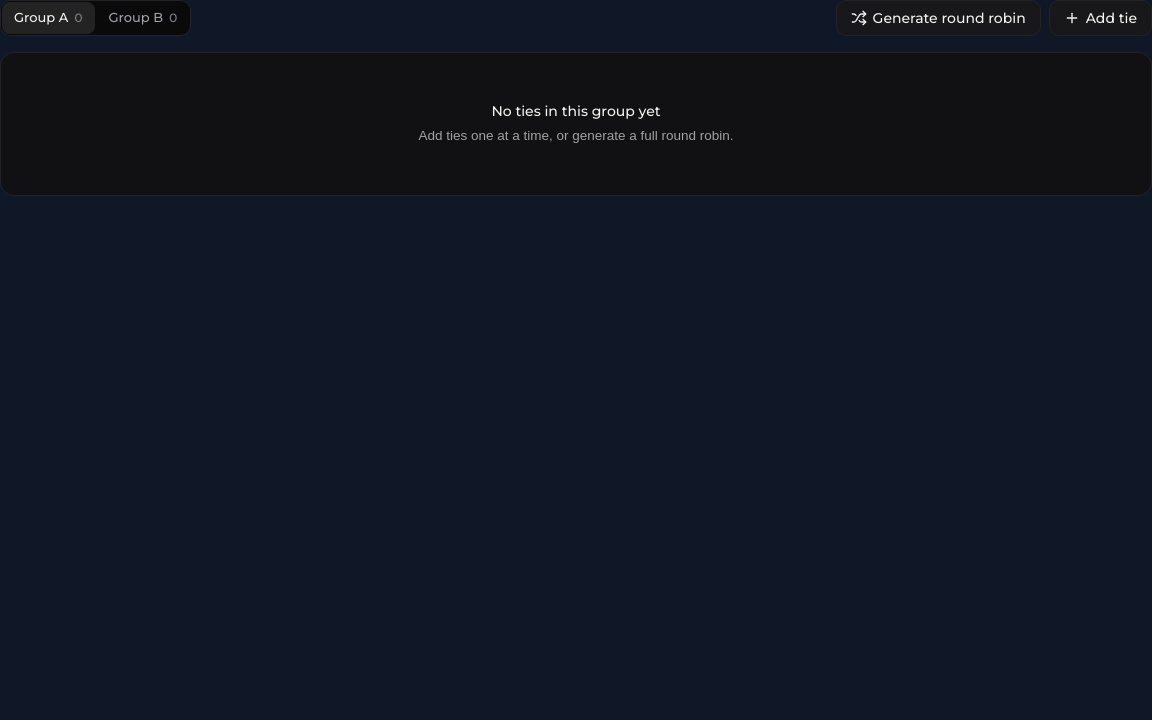
TieManagementPanel › keeps the selected group after creating a tie
Click the button "Group B 0".
click(143, 18)  # box [97,2,190,34]
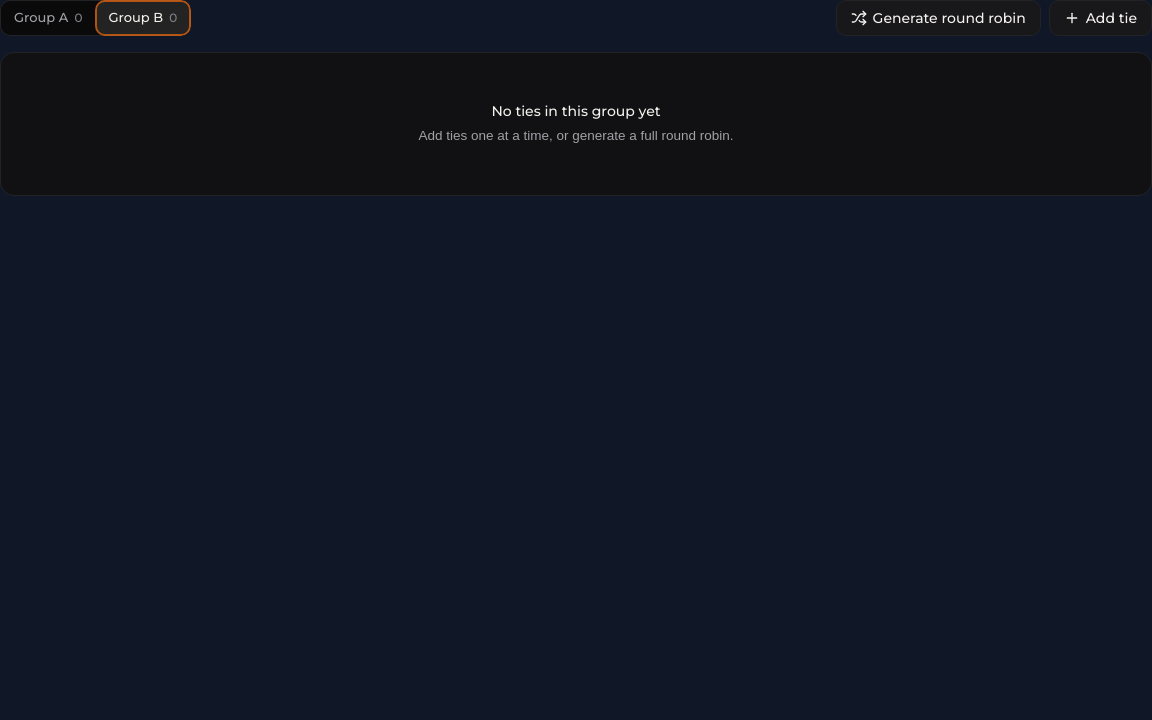
Check: the text "No ties in this group yet" is shown, box [491,102,661,120]
Click the button "Add tie".
click(1100, 18)  # box [1049,0,1151,36]
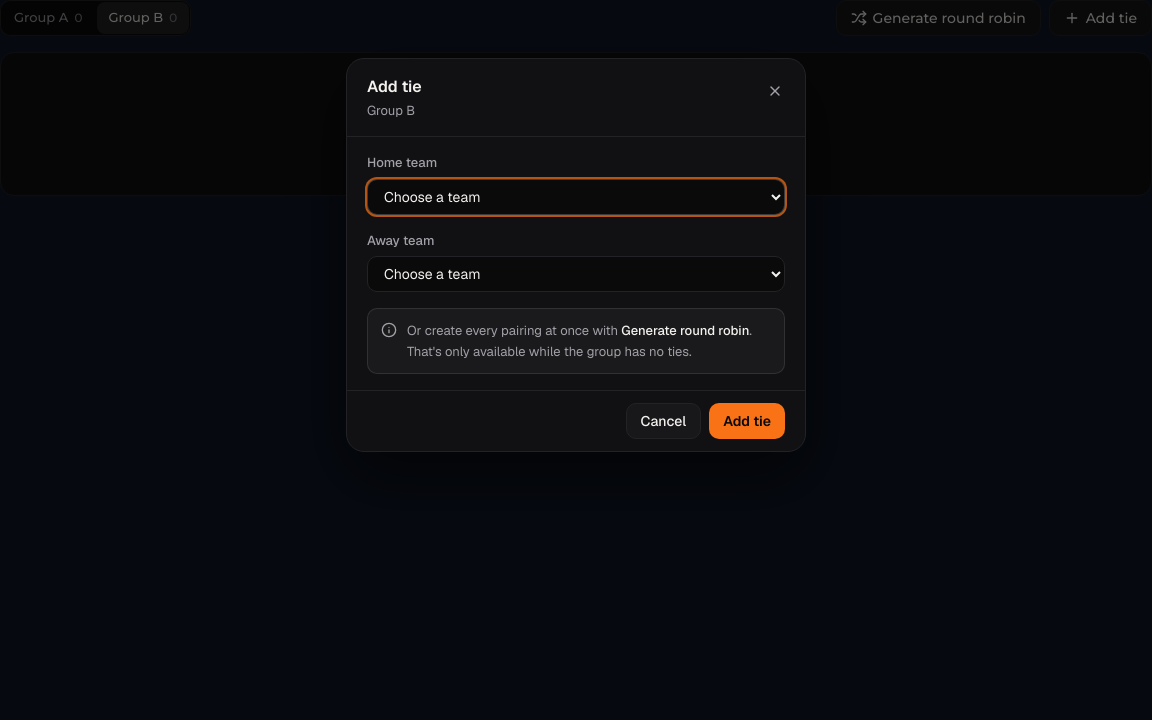
Click the button "Add tie".
click(747, 421)  # box [709,403,785,439]
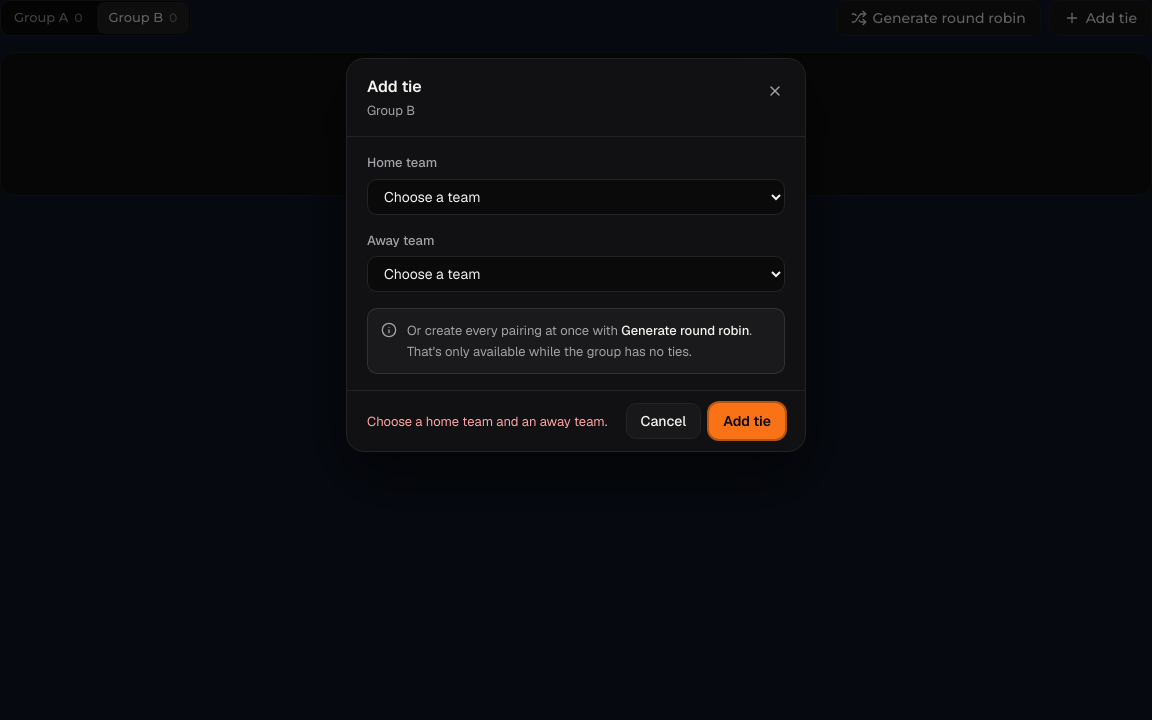
Check: the message reads "Choose a home team and an away team.", box [367,413,607,430]
Select "Baseline Blazers" in the dropdown labelled "Home team" at {"x": 576, "y": 197}, box [367,179,785,215]
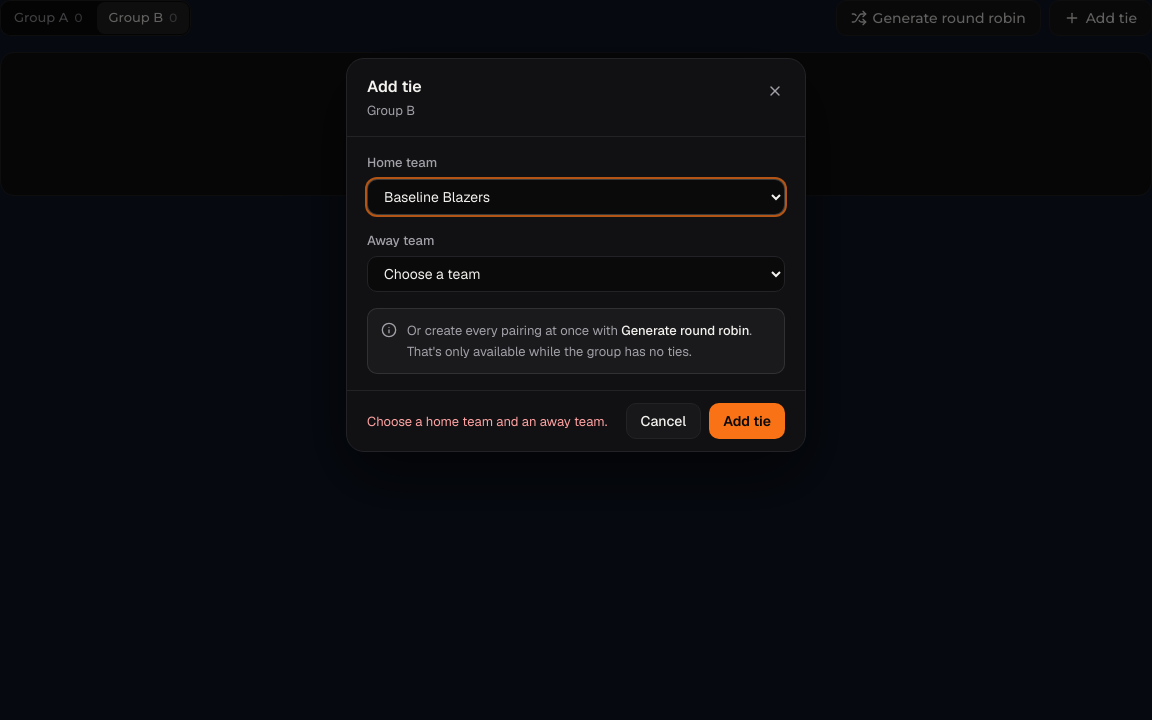
Select "Net Ninjas" in the dropdown labelled "Away team" at {"x": 576, "y": 274}, box [367,256,785,292]
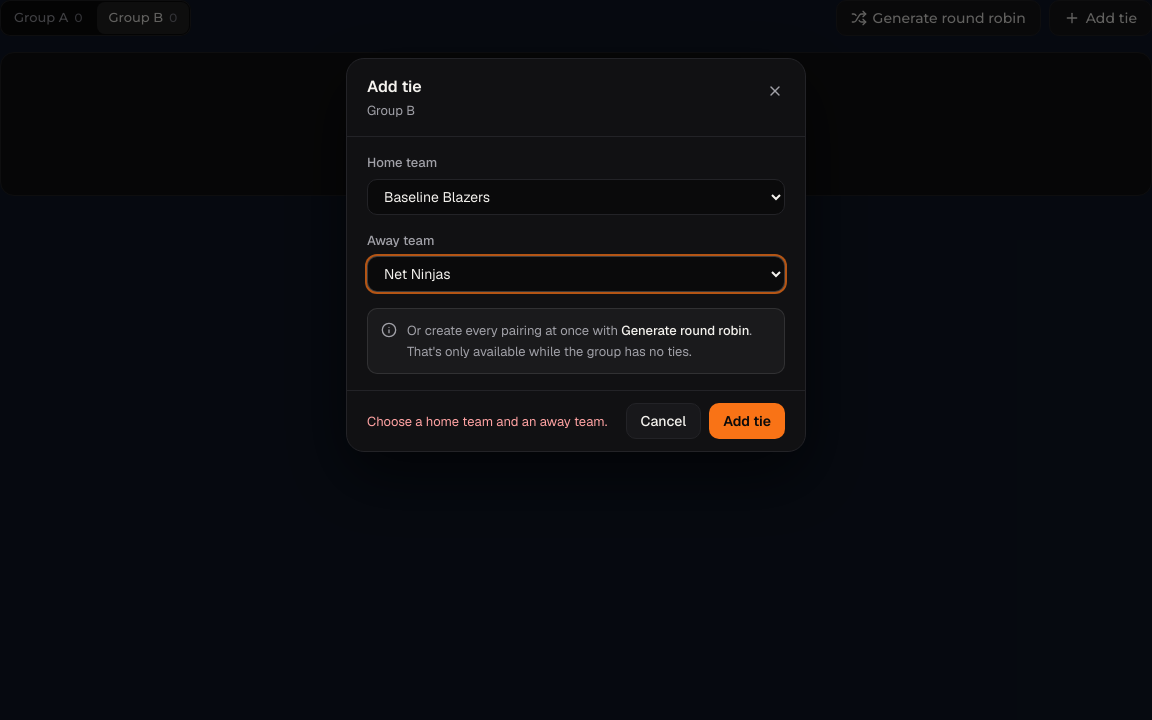
Click the button "Add tie".
click(747, 421)  # box [709,403,785,439]
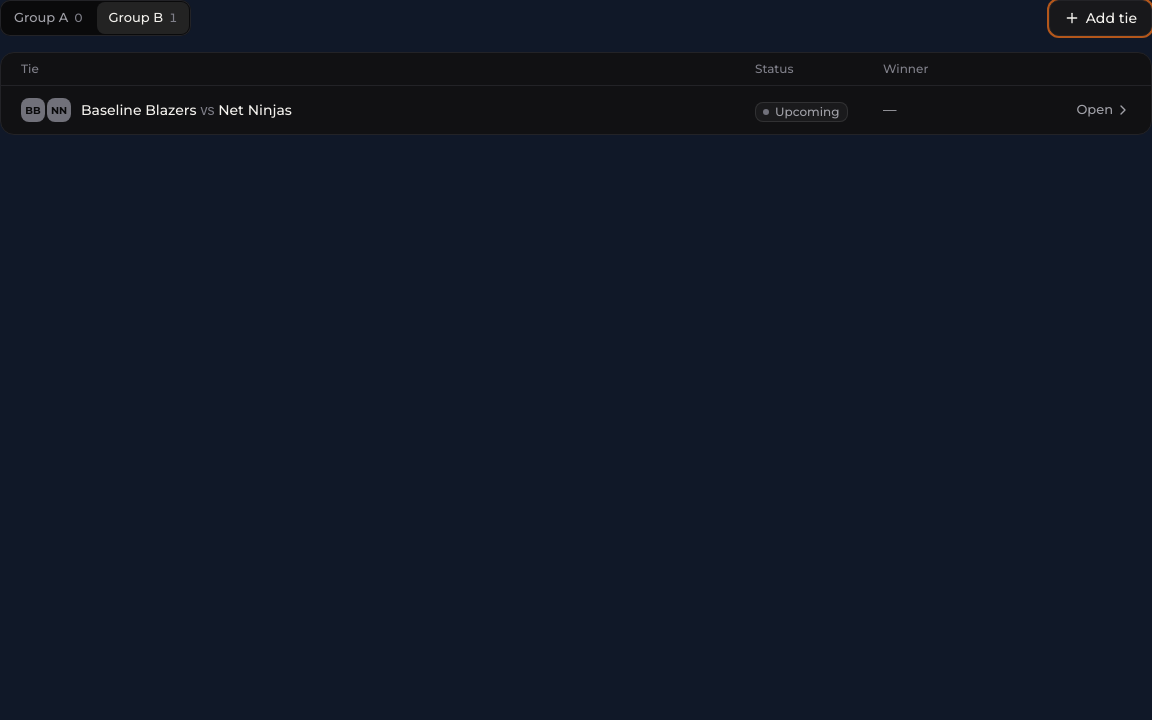
Check: the button "BB NN Baseline Blazers vs Net Ninjas Upcoming — Open" is shown, box [1,86,1151,134]
